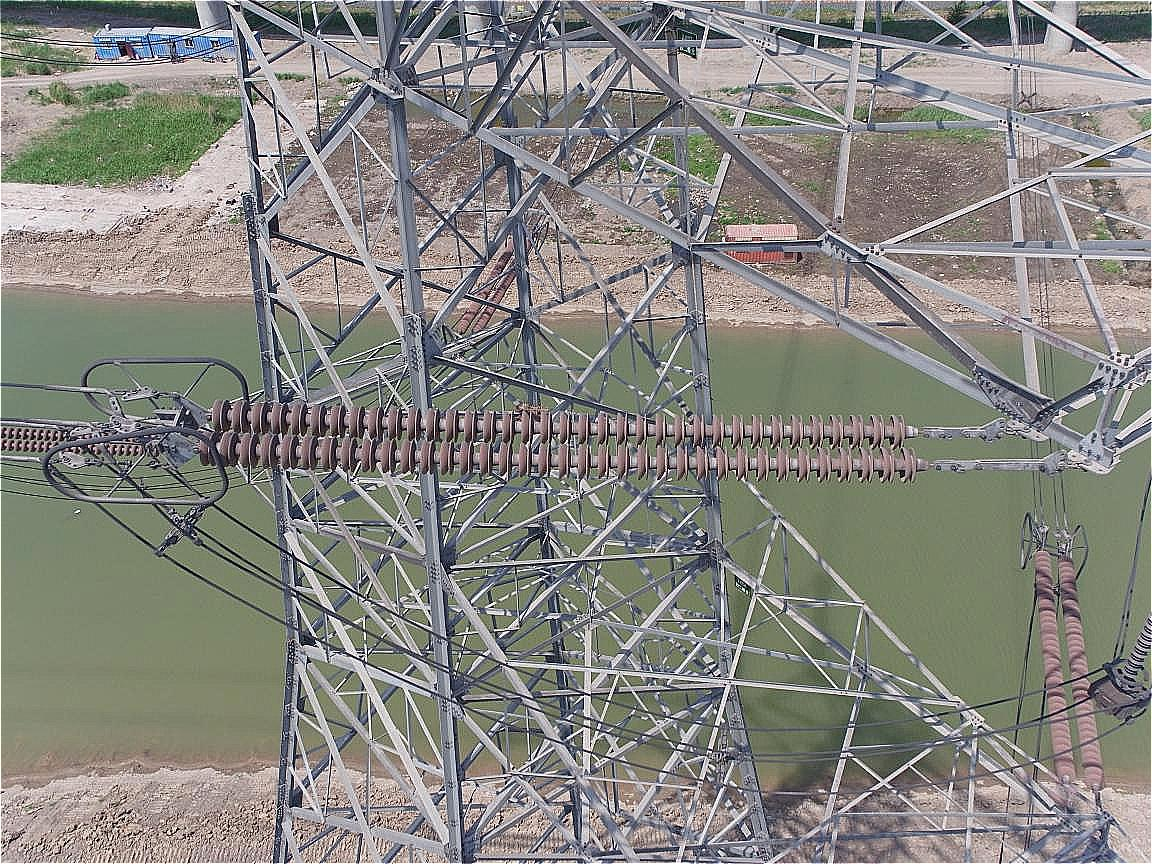insultor2: (156, 389, 962, 511)
